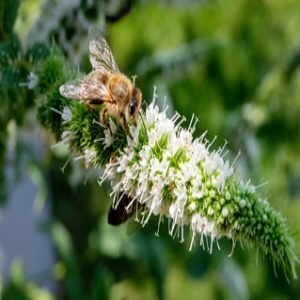bee: (58, 24, 150, 145)
